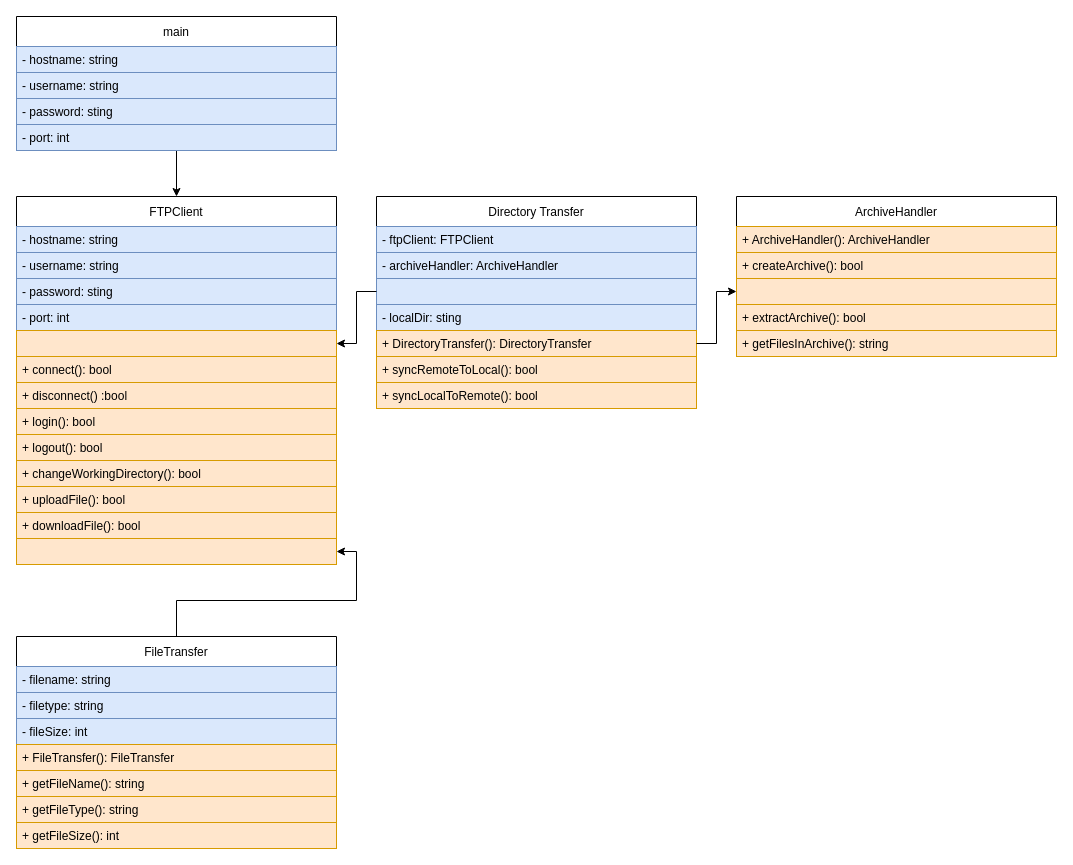
Image size: 1073x865. Some labels were removed from this diagram. Each missing label, with the centre of its shape:
"+ deleteFile(): bool" goes at (176,551).
"+ FTPClient(): FTPClient" goes at (176,343).
"+ isArchive(): bool" goes at (896,291).
"- remoteDir: string" goes at (536,291).
